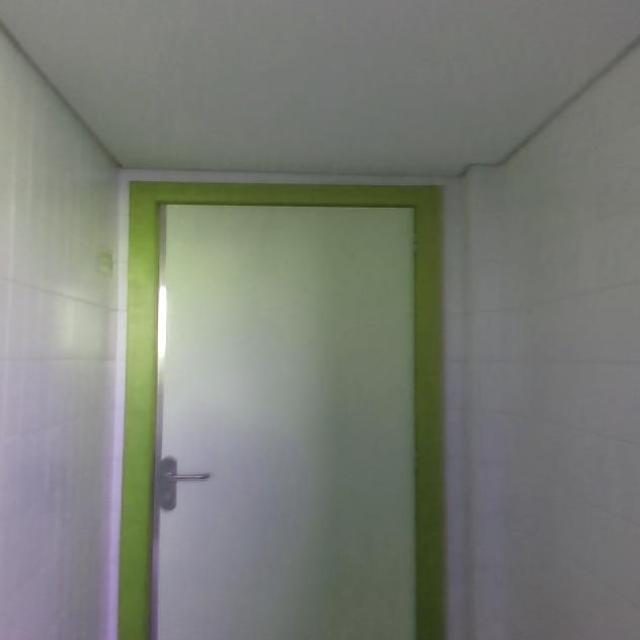door: (149, 198, 419, 639)
